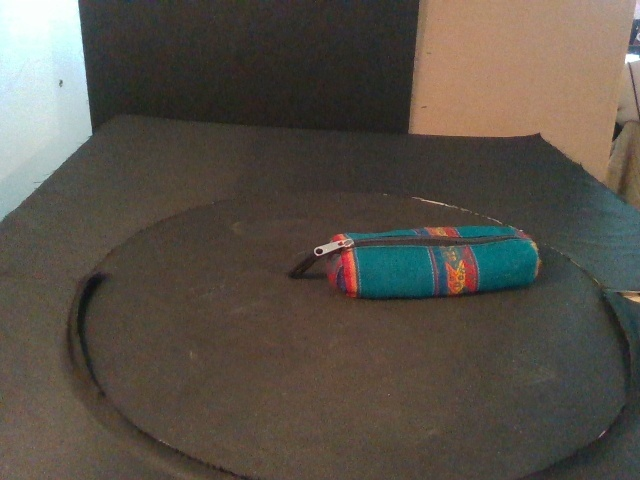pencil_case: (324, 224, 540, 301)
